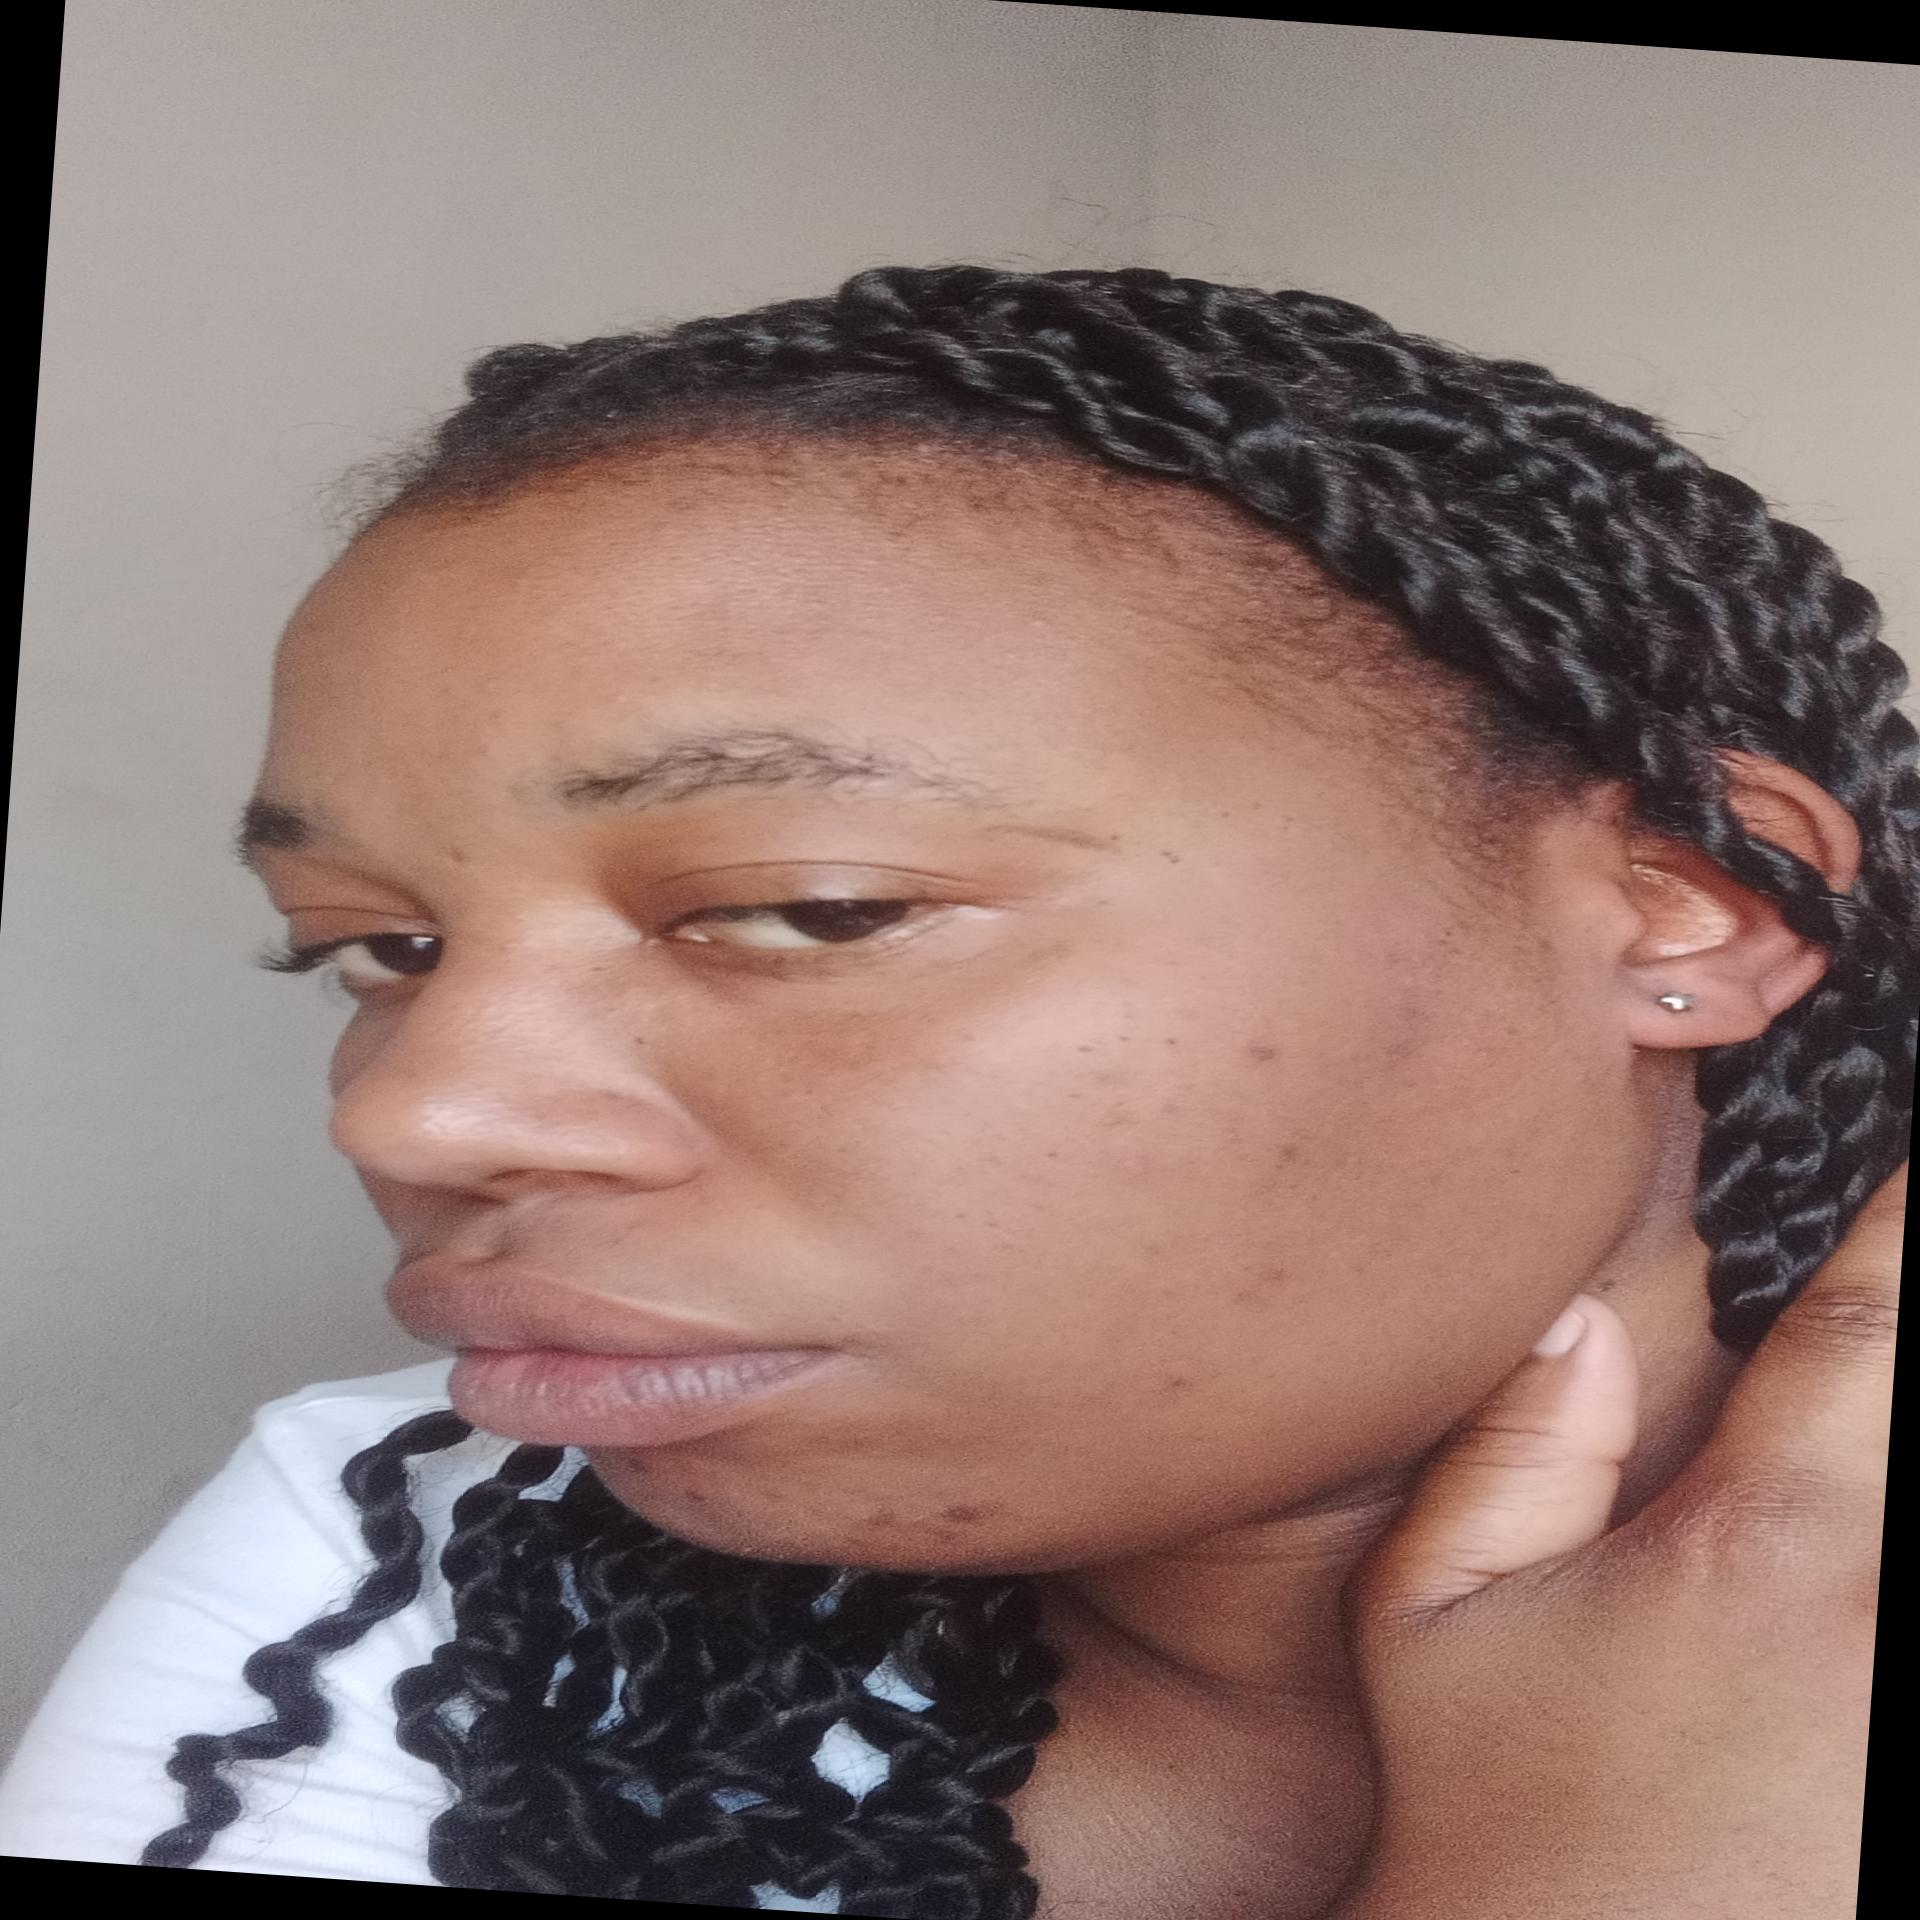Acne: (1210, 1254, 1296, 1317), (1060, 1025, 1180, 1064), (1259, 1129, 1310, 1178), (925, 1496, 992, 1531), (1150, 1364, 1204, 1396), (1240, 1036, 1291, 1069), (1027, 1141, 1065, 1171), (614, 1452, 659, 1475), (863, 1503, 900, 1528), (673, 1484, 712, 1503), (1057, 1083, 1085, 1104)
Dark Circles: (652, 900, 1009, 1025)
